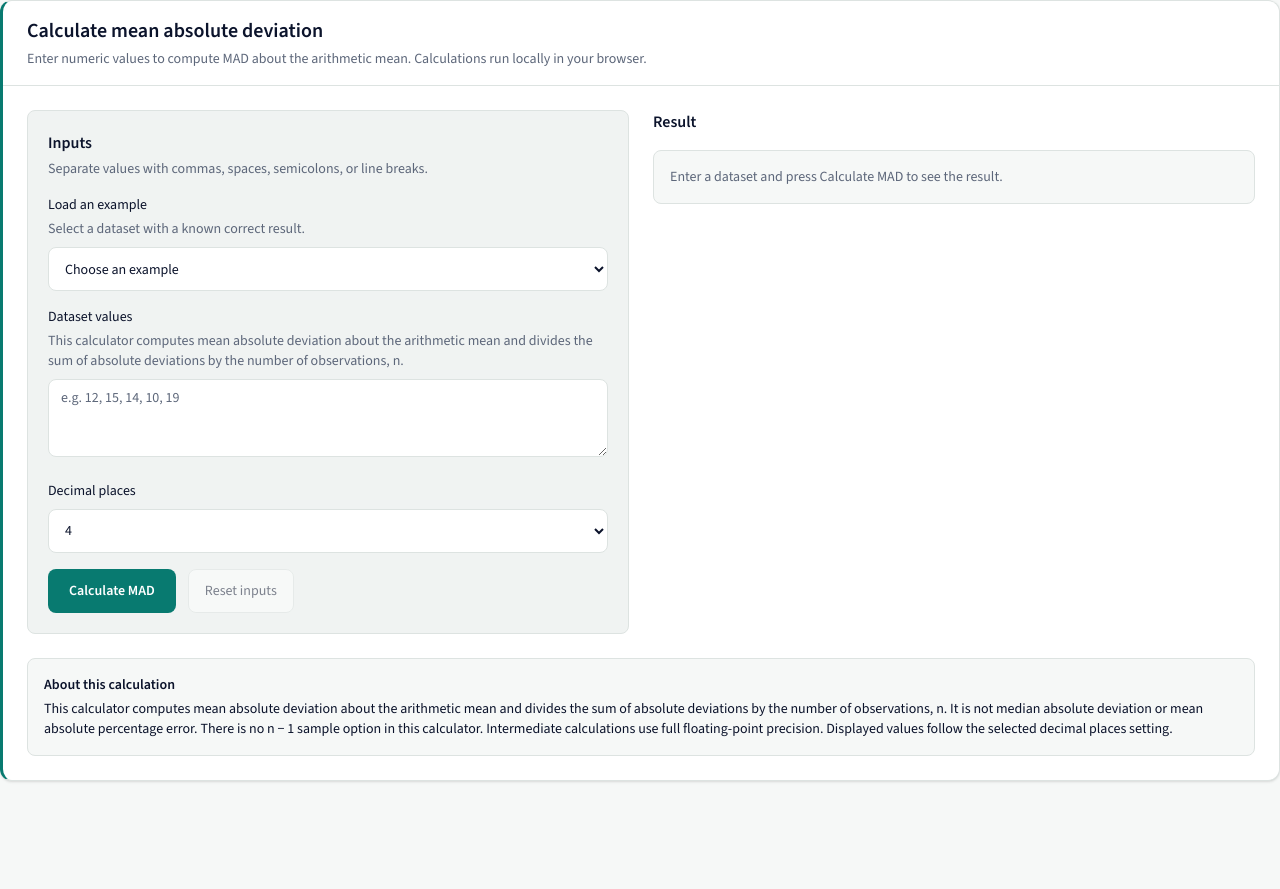
Test: MeanAbsoluteDeviationCalculator copy and reset › hides copy before calculation and copies full result text after
Expected: the button "Copy result" is not shown
Type "12, 15, 14, 10, 19" into the text box labelled "Dataset values".
click(328, 418); type("12, 15, 14, 10, 19")  # box [48,379,608,457]
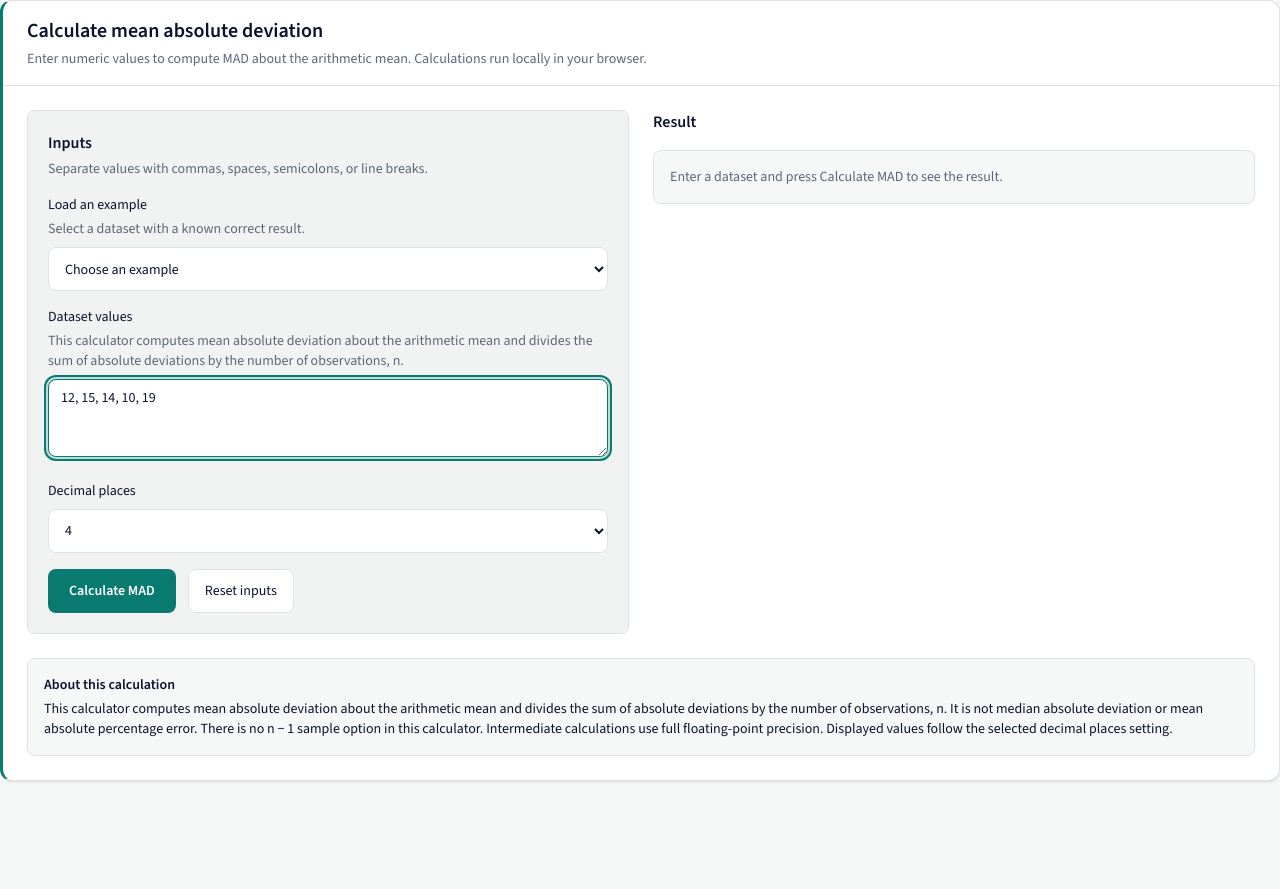
Click the button "Calculate MAD".
click(112, 591)  # box [48,569,176,613]
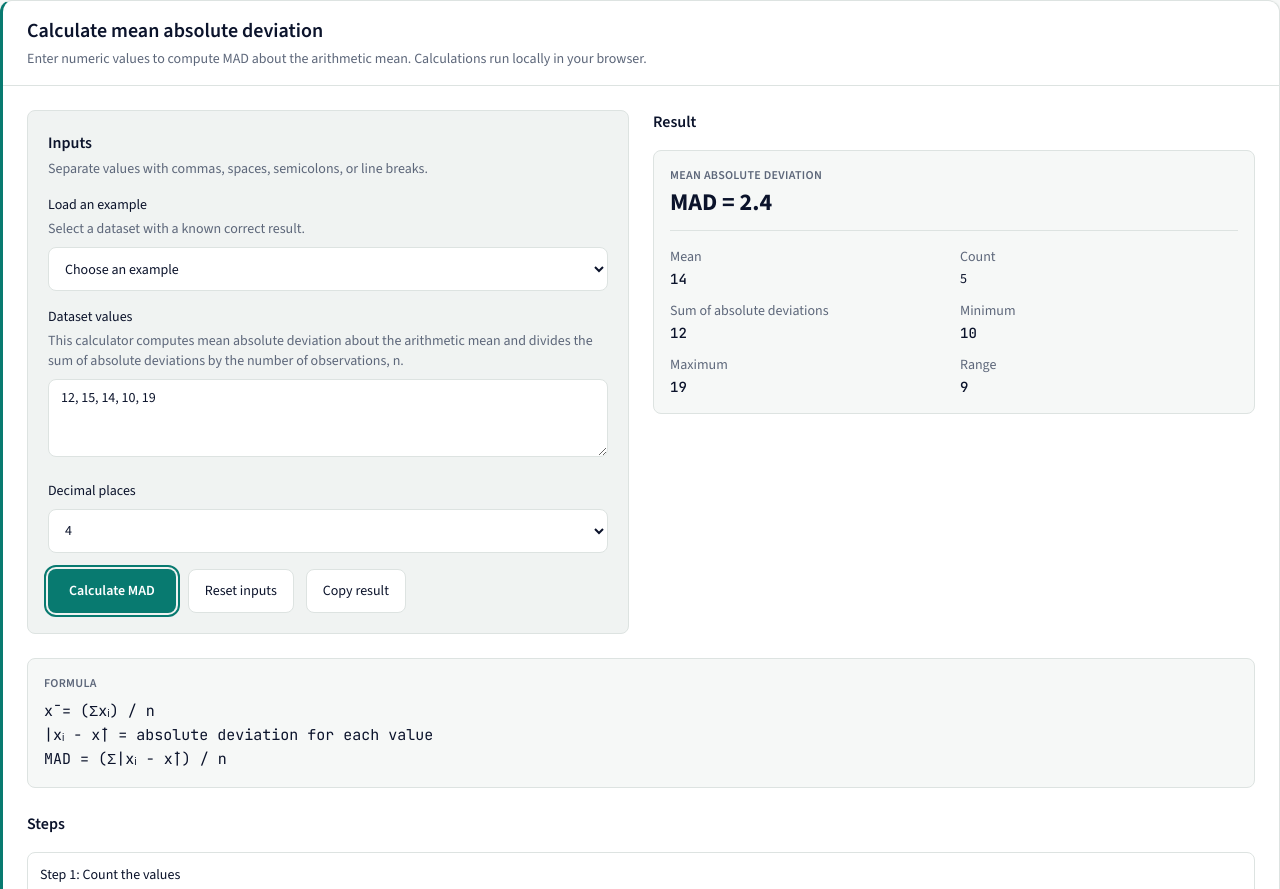
Click the button "Copy result".
click(356, 591)  # box [306,569,406,613]
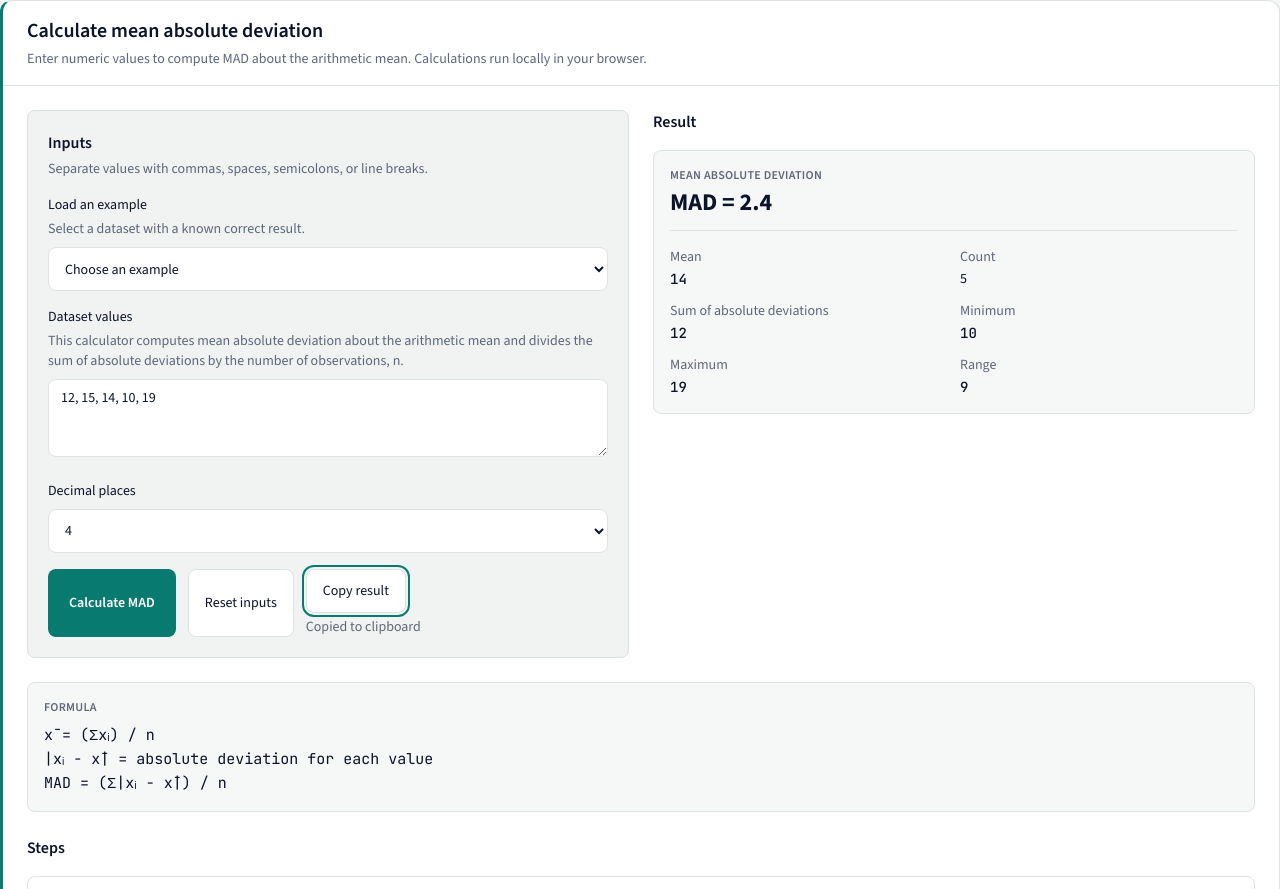
Expected: the message reads "Copied to clipboard", [306,617,421,636]
